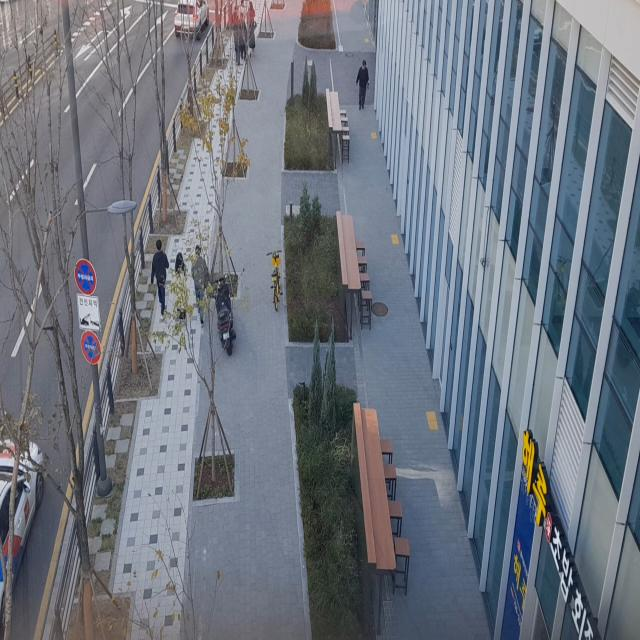Car: (0, 403, 56, 631), (167, 0, 215, 48)
